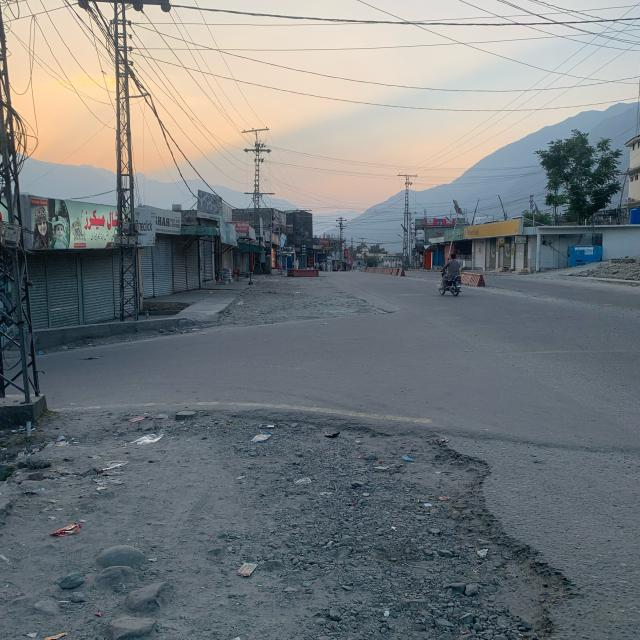Left-Turn: (61, 342, 640, 408)
straight: (328, 252, 602, 348)
unexpected: (53, 414, 640, 640)
